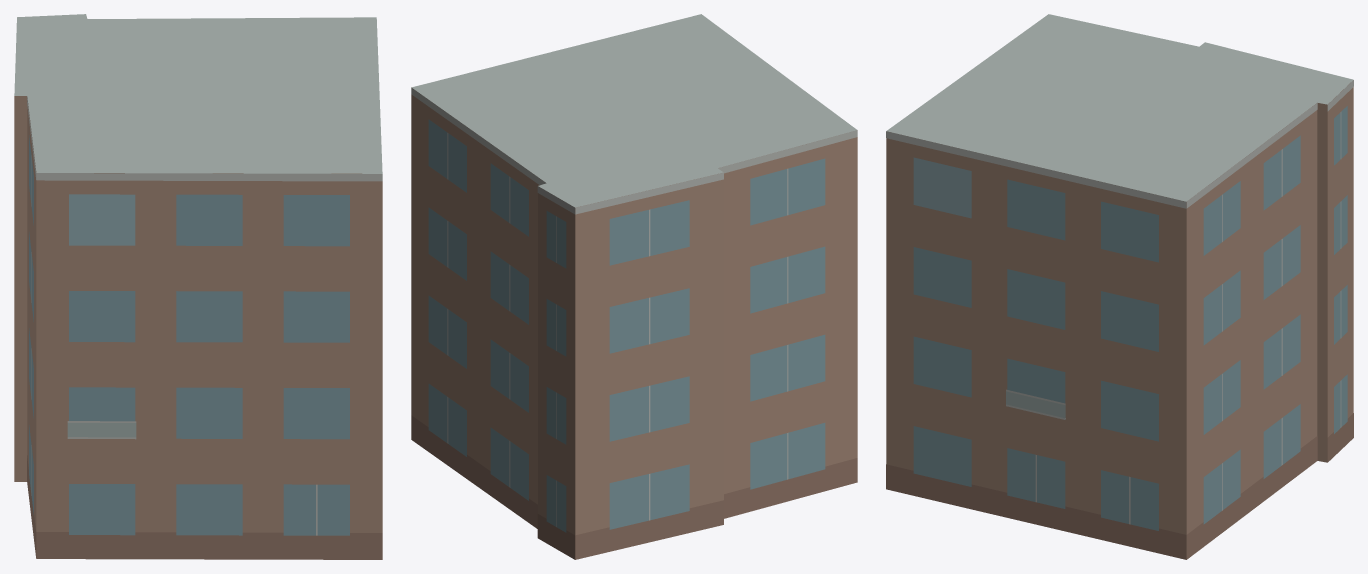
The model's file is survey-upis-32676358.glb.
3 views of the same model, side by side, from view 1: azimuth 30°, elevation 25°; view 2: azimuth 150°, elevation 25°; view 3: azimuth 270°, elevation 25° (orthographic). The views are drawn at different scales.
Visible parts, largest first — view 1: survey-upis-32676358.tmp; view 2: survey-upis-32676358.tmp; view 3: survey-upis-32676358.tmp.
Boxes of the visible parts, bbox=[...] form: survey-upis-32676358.tmp: bbox=[14, 14, 382, 559]; survey-upis-32676358.tmp: bbox=[411, 14, 857, 559]; survey-upis-32676358.tmp: bbox=[886, 14, 1353, 559].
Bounding box in the file's own units: 13.95 × 12.4 × 14.68.
